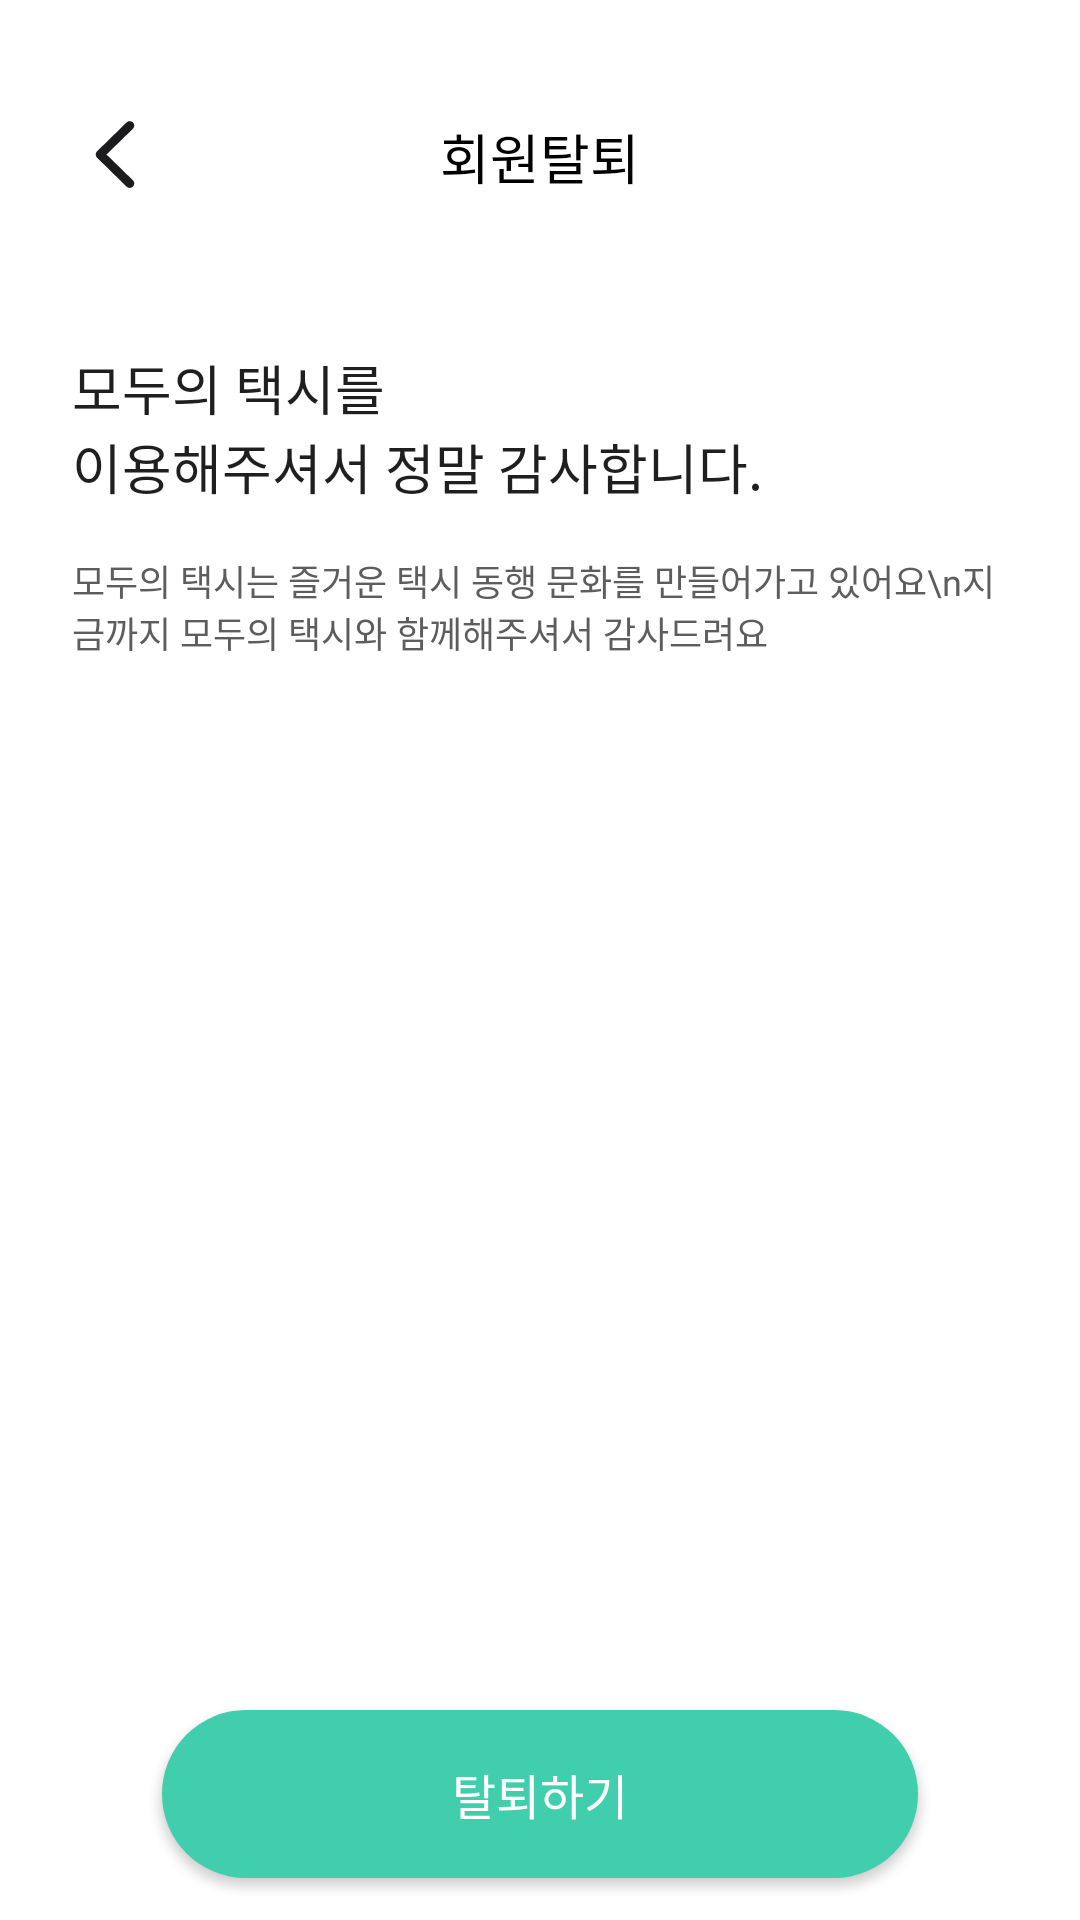

Icon bounding boxes for this 1080 x 1920 phone screenshot, format (left=x1, top=y1, right=x2, bottom=y2):
backward: (left=95, top=121, right=135, bottom=188)
